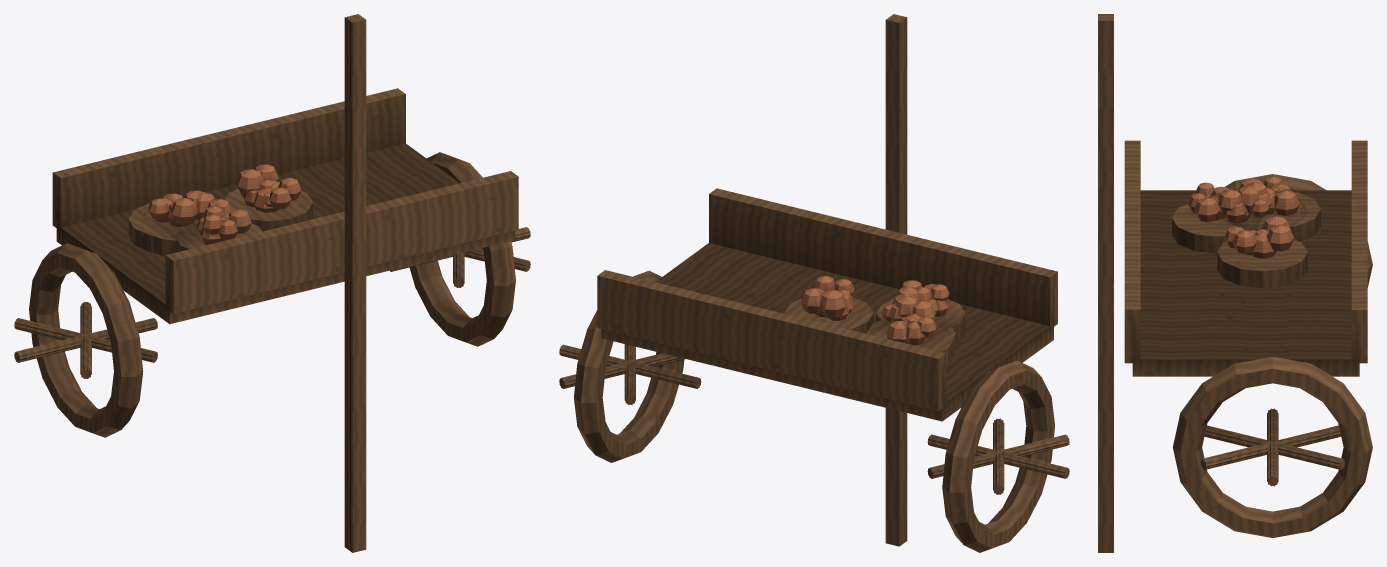
File: barrow_fruit.glb
The picture shows the model from 3 angles, left to right: view 1: azimuth 30°, elevation 25°; view 2: azimuth 150°, elevation 25°; view 3: azimuth 270°, elevation 25°; orthographic projection.
Parts seen in each view (by area): view 1: barrow_fruit; view 2: barrow_fruit; view 3: barrow_fruit.
Part boxes in pixels (x1,y1,x2,y2): barrow_fruit: (14,14,530,552); barrow_fruit: (559,14,1069,552); barrow_fruit: (1098,14,1372,552).
Bounding box in the file's own units: 2.22 × 2.2 × 1.03.
2 materials, 2 textured.
